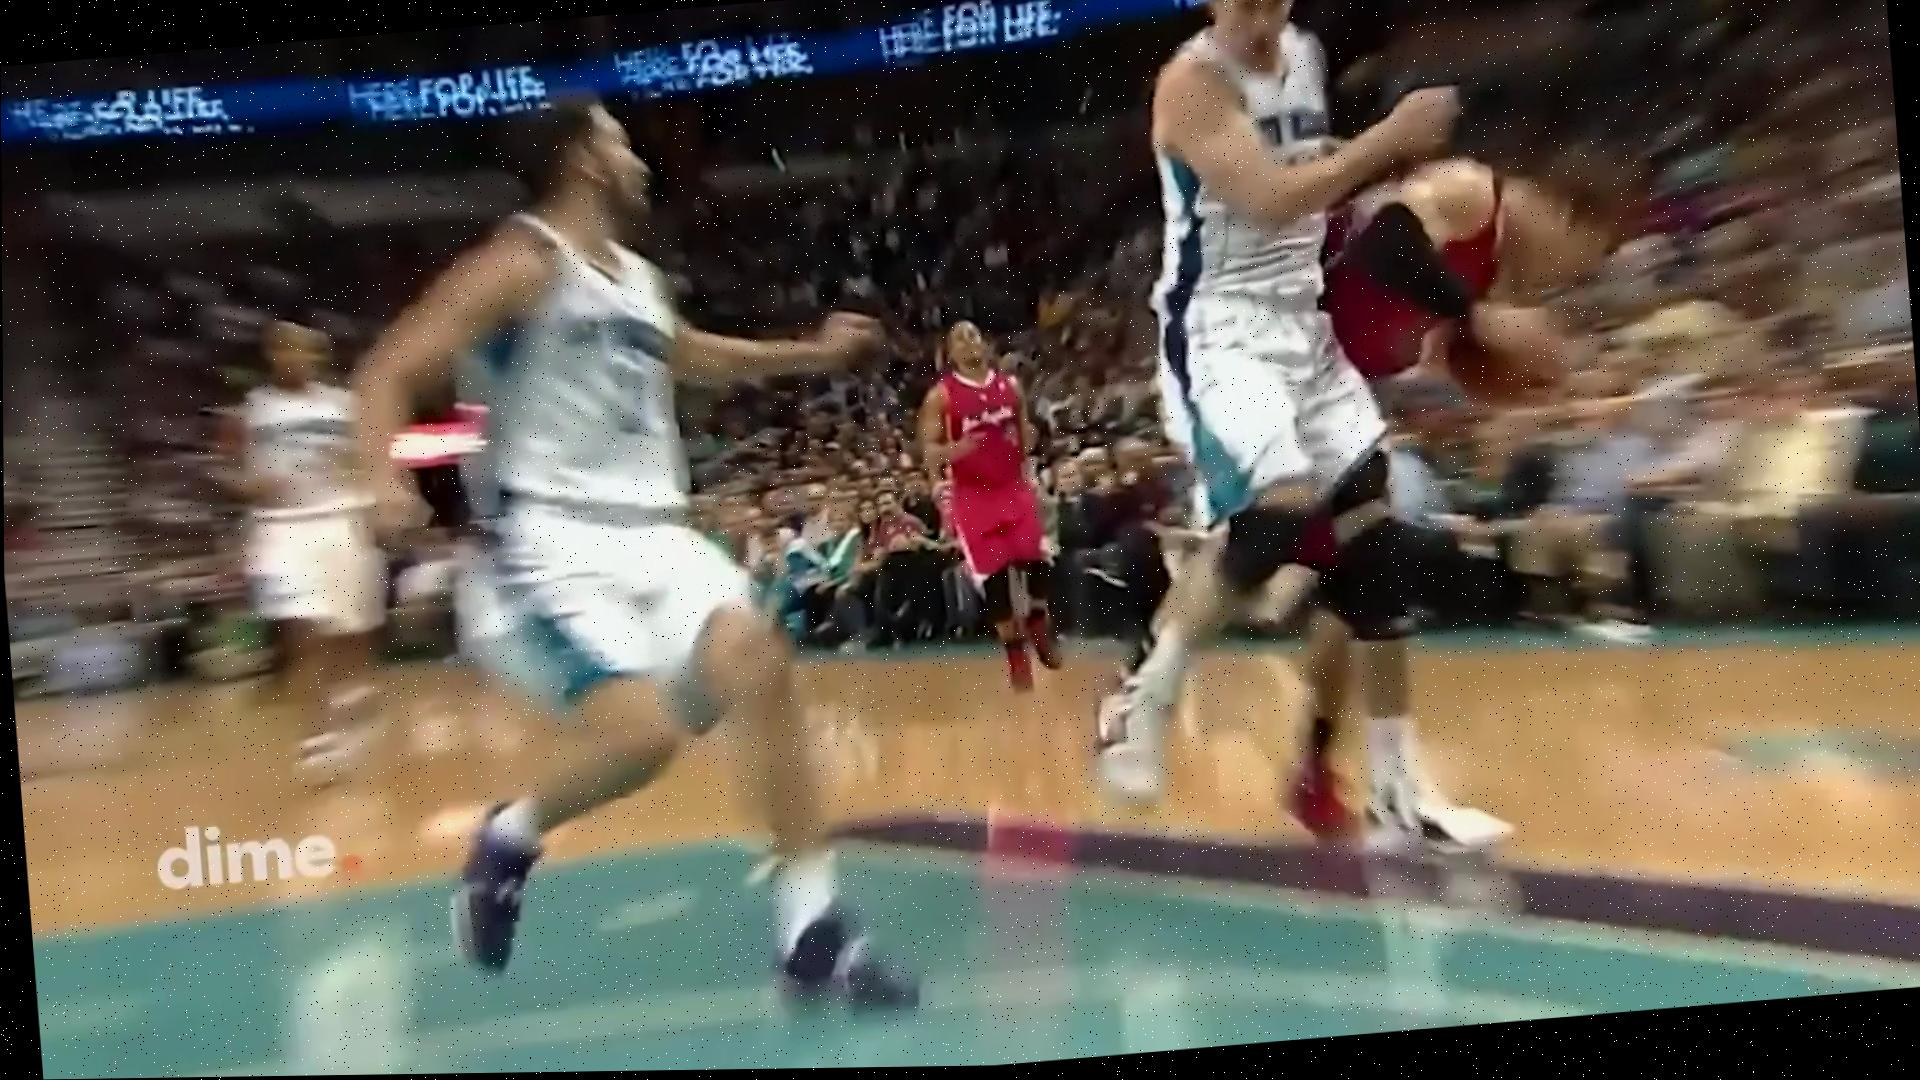foul: (1083, 0, 1557, 922)
